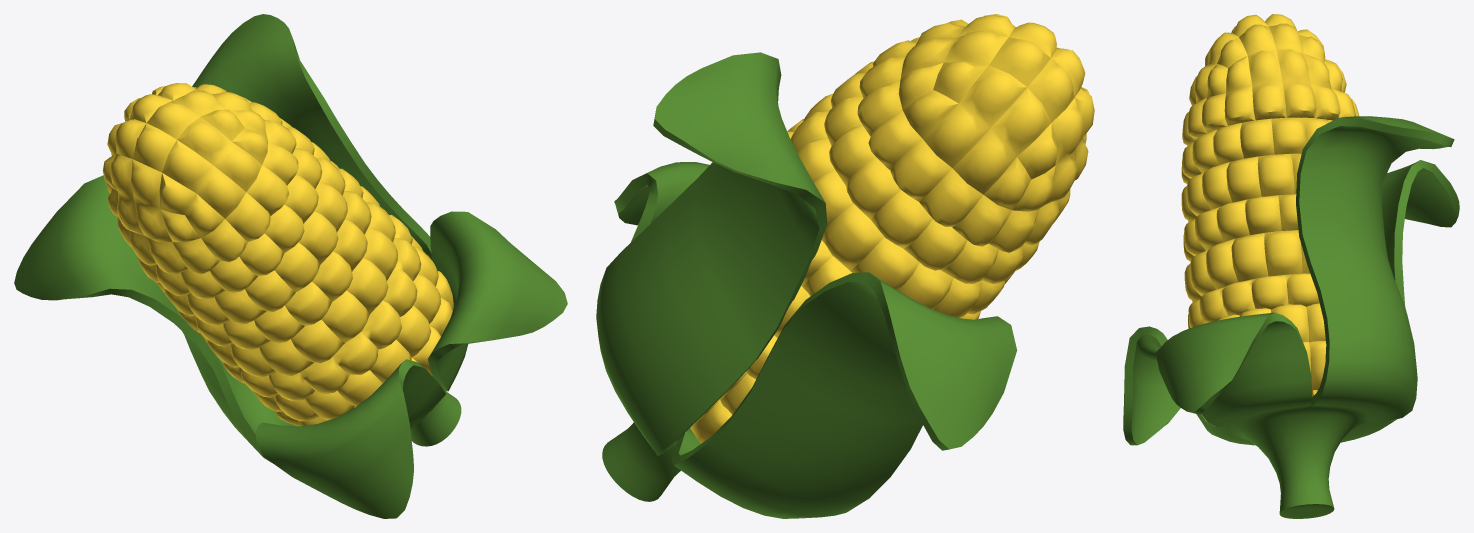
File: ear_of_corn.gltf
The picture shows the model from 3 angles, left to right: view 1: azimuth 30°, elevation 25°; view 2: azimuth 150°, elevation 25°; view 3: azimuth 270°, elevation 25°; orthographic projection. The views are drawn at different scales.
Parts seen in each view (by area): view 1: Cube.344; view 2: Cube.344; view 3: Cube.344.
Part boxes in pixels (x1=…): Cube.344: x1=14, y1=14, x2=567, y2=518; Cube.344: x1=596, y1=14, x2=1094, y2=518; Cube.344: x1=1123, y1=14, x2=1459, y2=518.
Bounding box in the file's own units: 2.18 × 2.15 × 1.71.
1 material, 1 textured.
